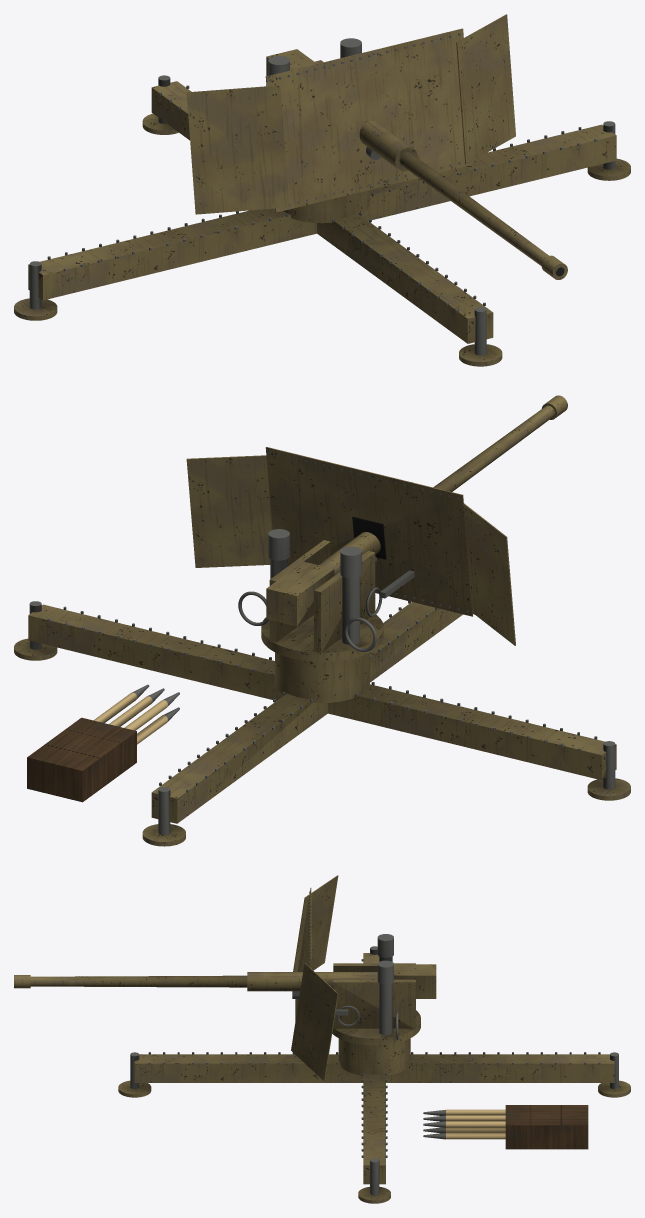
The model's file is flak88.glb.
3 views of the same model, one above another, from view 1: azimuth 30°, elevation 25°; view 2: azimuth 150°, elevation 25°; view 3: azimuth 270°, elevation 25° (orthographic). The views are drawn at different scales.
Visible parts, largest first — view 1: Shield, Carriage, Barrel; view 2: Carriage, Shield, Barrel; view 3: Carriage, Shield, Barrel.
Boxes of the visible parts, x1,y1,x2,y2 form: Shield: [186, 14, 515, 214]; Carriage: [14, 38, 630, 366]; Barrel: [266, 49, 567, 279]; Carriage: [14, 529, 630, 846]; Shield: [186, 447, 515, 645]; Barrel: [266, 395, 567, 626]; Carriage: [118, 934, 630, 1203]; Shield: [291, 875, 348, 1081]; Barrel: [14, 964, 436, 998].
Bounding box in the file's own units: 7.14 × 2.47 × 8.23.
Materials: 5 (2 with a texture image).
